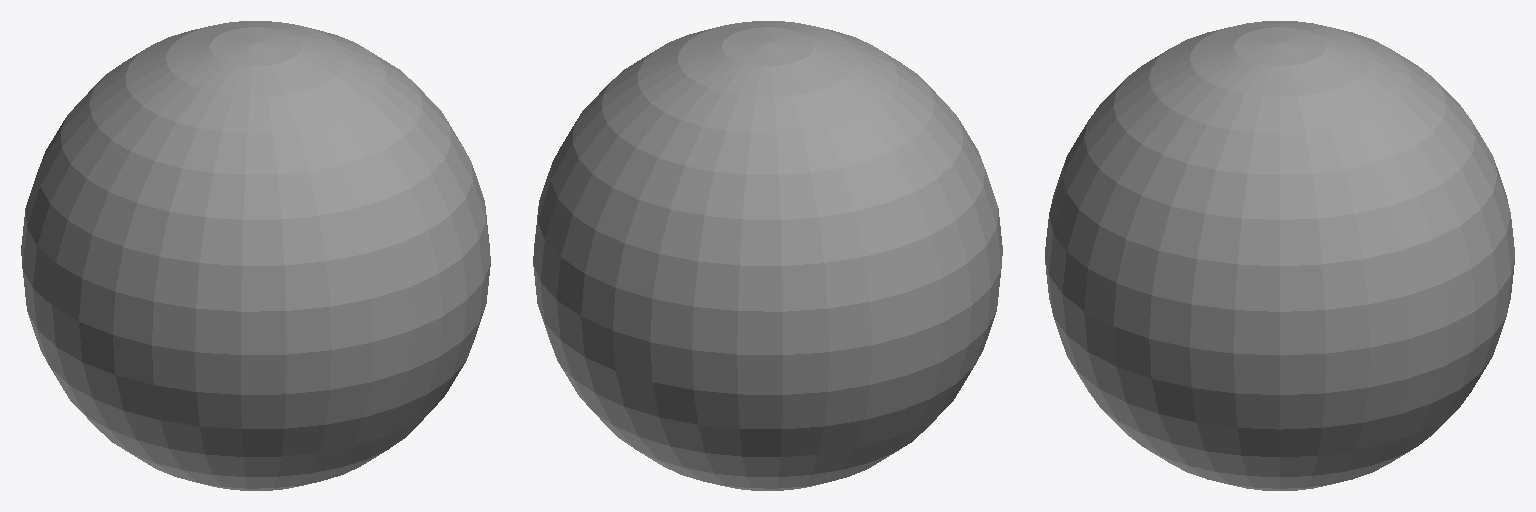
The model's file is moon_1.obj.
3 renders of one model, left to right at view 1: azimuth 30°, elevation 25°; view 2: azimuth 150°, elevation 25°; view 3: azimuth 270°, elevation 25°, orthographic.
Visible parts, largest first — view 1: Sphere; view 2: Sphere; view 3: Sphere.
Boxes of the visible parts, <box> form: Sphere: <box>21,21,490,490</box>; Sphere: <box>533,21,1002,490</box>; Sphere: <box>1045,21,1514,490</box>.
Size of the model in its own units: 3.47 by 3.47 by 3.47.